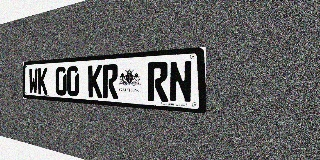0: (67, 66, 79, 97), (55, 67, 66, 96)
K: (88, 65, 102, 98), (38, 67, 47, 95)
N: (169, 60, 192, 103)
R: (148, 61, 168, 102), (103, 64, 118, 99)
W: (29, 68, 38, 94)
